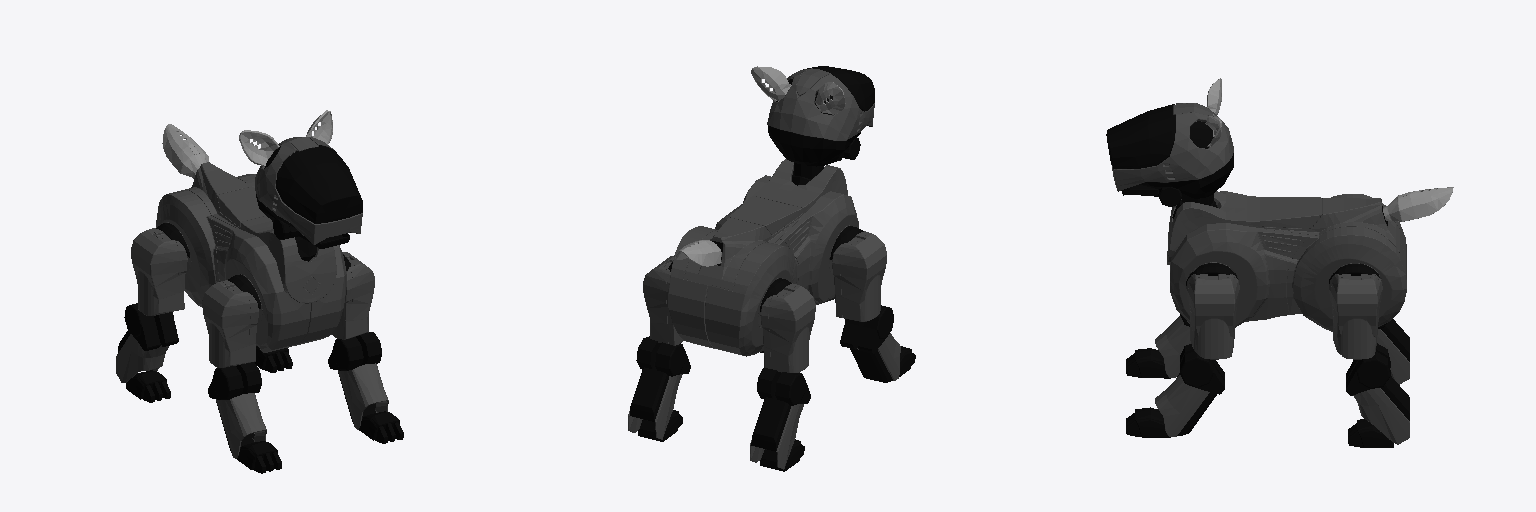
The model's file is aib.obj.
The picture shows the model from 3 angles: view 1: azimuth 30°, elevation 25°; view 2: azimuth 150°, elevation 25°; view 3: azimuth 270°, elevation 25°; orthographic projection.
Parts seen in each view (by area): view 1: aibo_mesh; view 2: aibo_mesh; view 3: aibo_mesh.
Boxes of the visible parts, x1=… form: aibo_mesh: x1=116, y1=110, x2=403, y2=473; aibo_mesh: x1=628, y1=66, x2=915, y2=471; aibo_mesh: x1=1106, y1=78, x2=1453, y2=447.
Bounding box in the file's own units: 34.84 × 68.16 × 67.99.